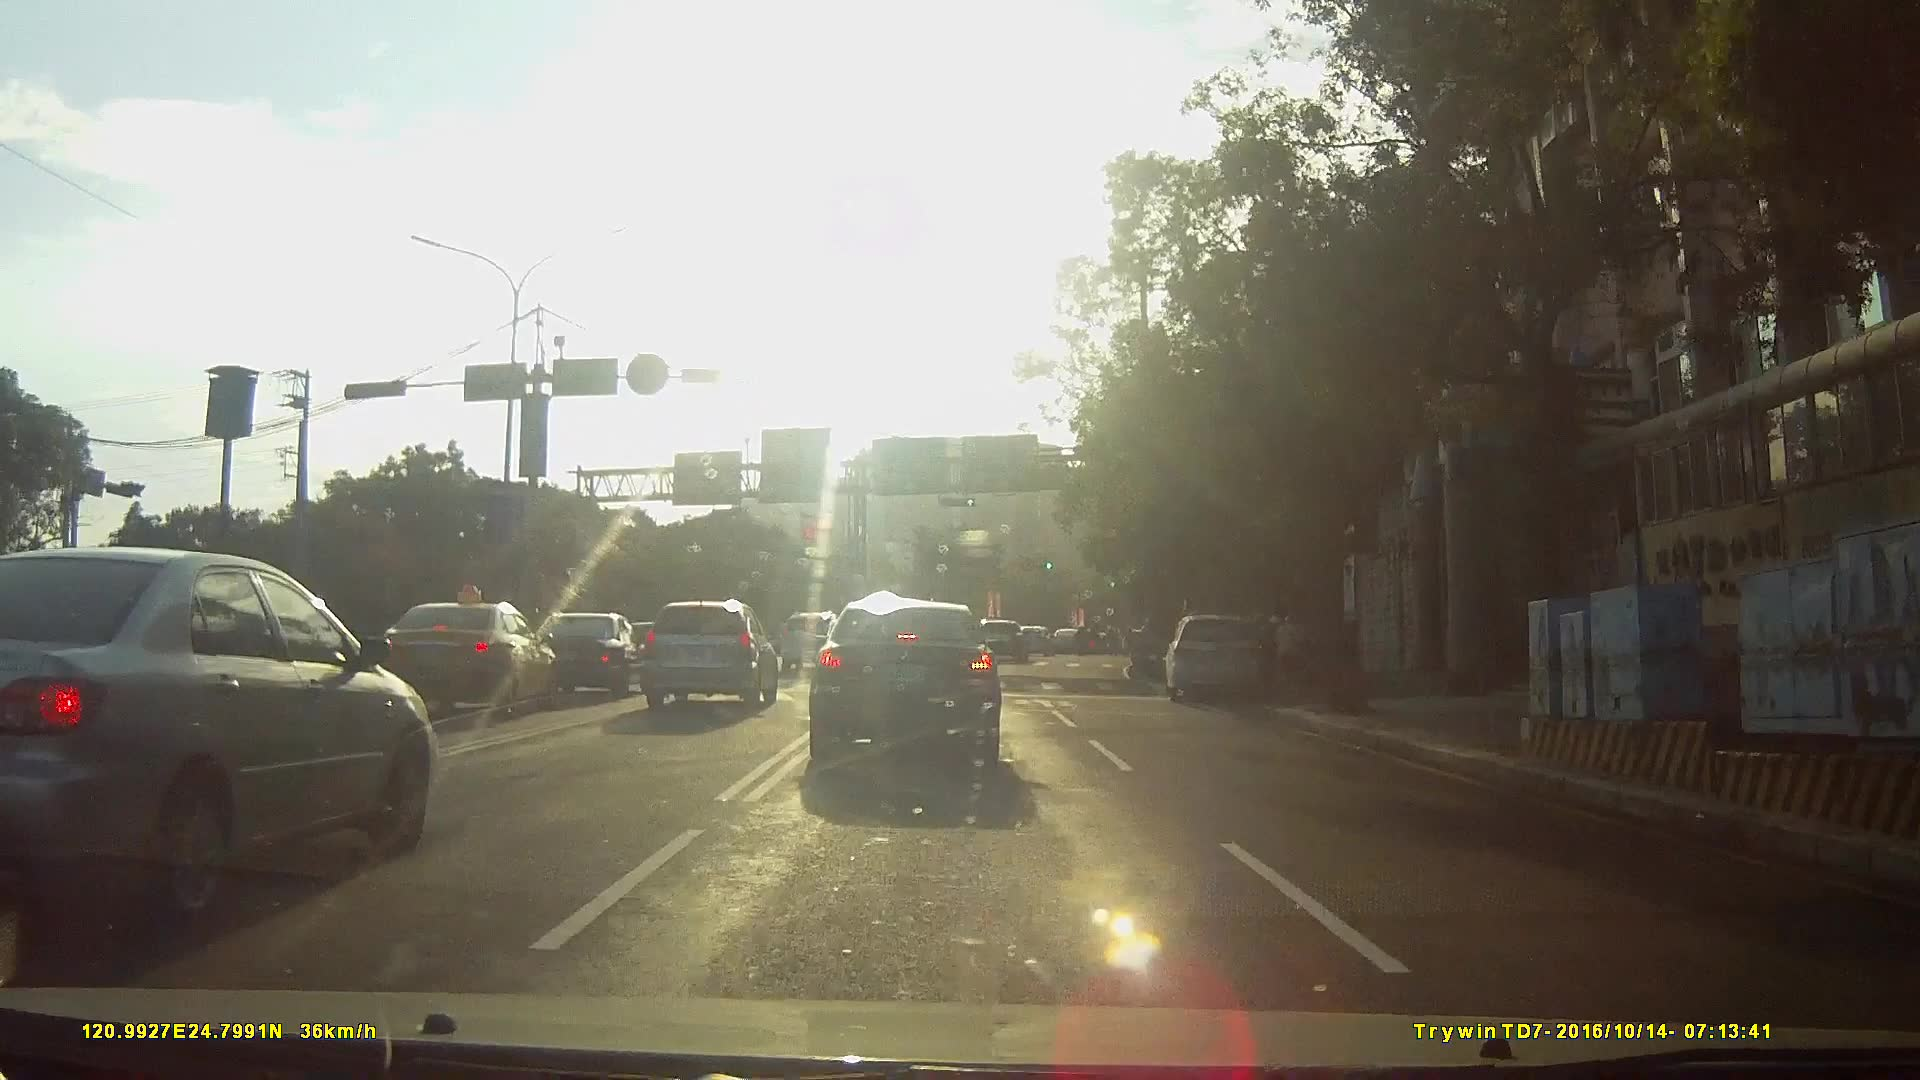pedestrian: (1267, 611, 1308, 681)
vehicle: (1, 538, 446, 920), (802, 596, 1018, 786), (350, 596, 543, 719), (638, 594, 779, 707), (508, 608, 641, 699), (1164, 602, 1283, 698), (782, 607, 847, 671), (975, 614, 1033, 660), (1021, 621, 1060, 653), (1051, 623, 1093, 651)
